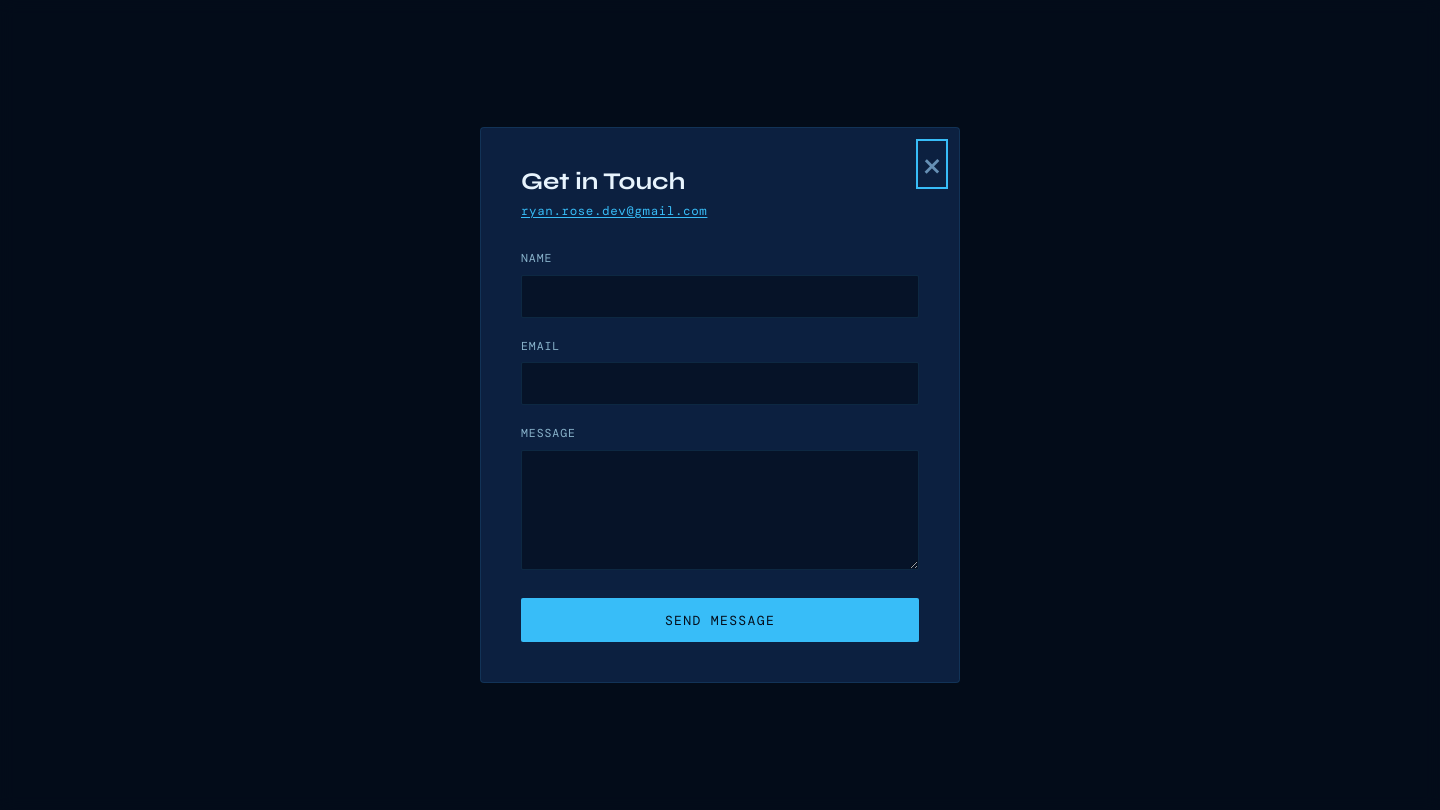
Test: ContactModal › shows a success message after a successful submission
In the field labelled "Name": (720, 296) [521,275,919,318], type "Jerome"
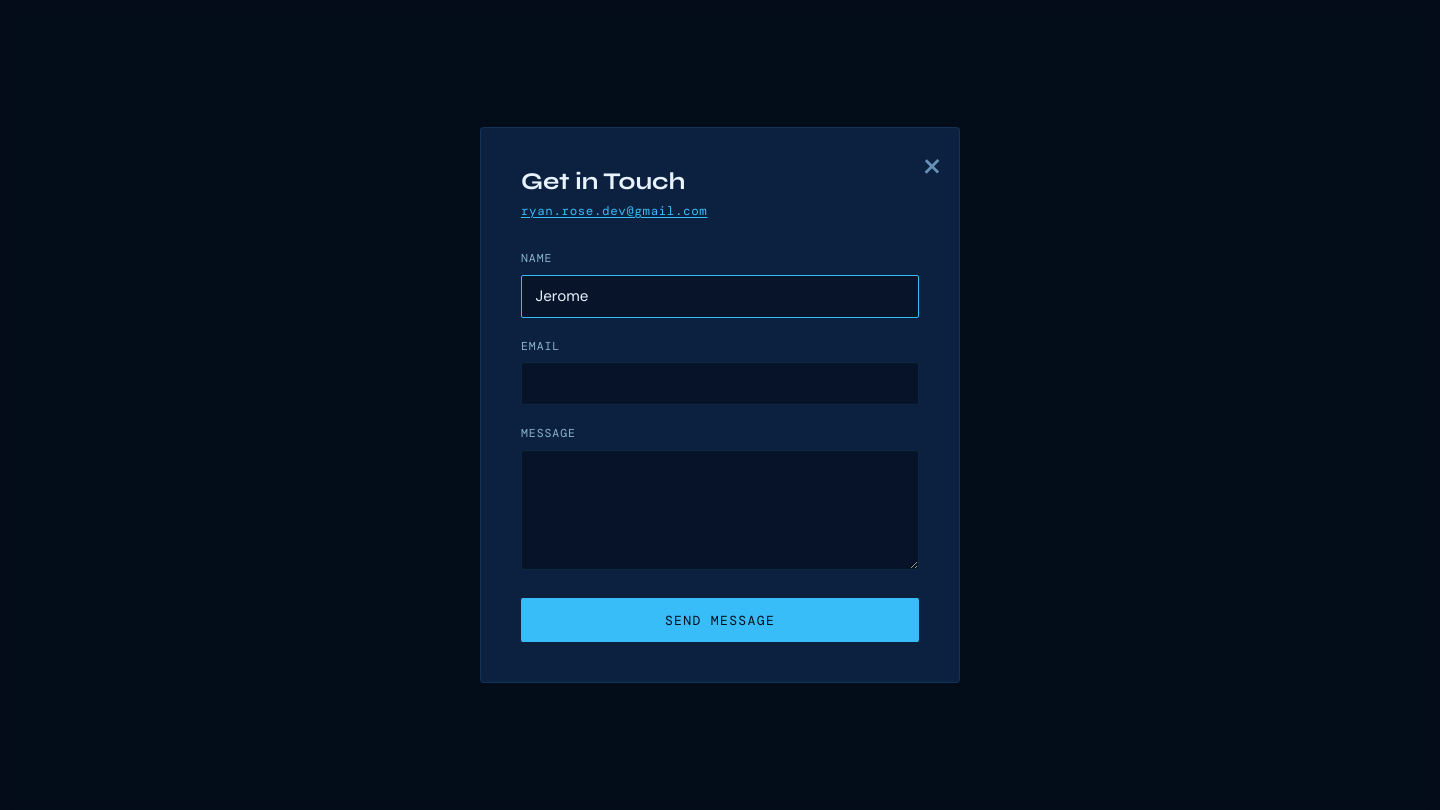
In the field labelled "Email": (720, 384) [521,362,919,405], type "jerome@example.com"
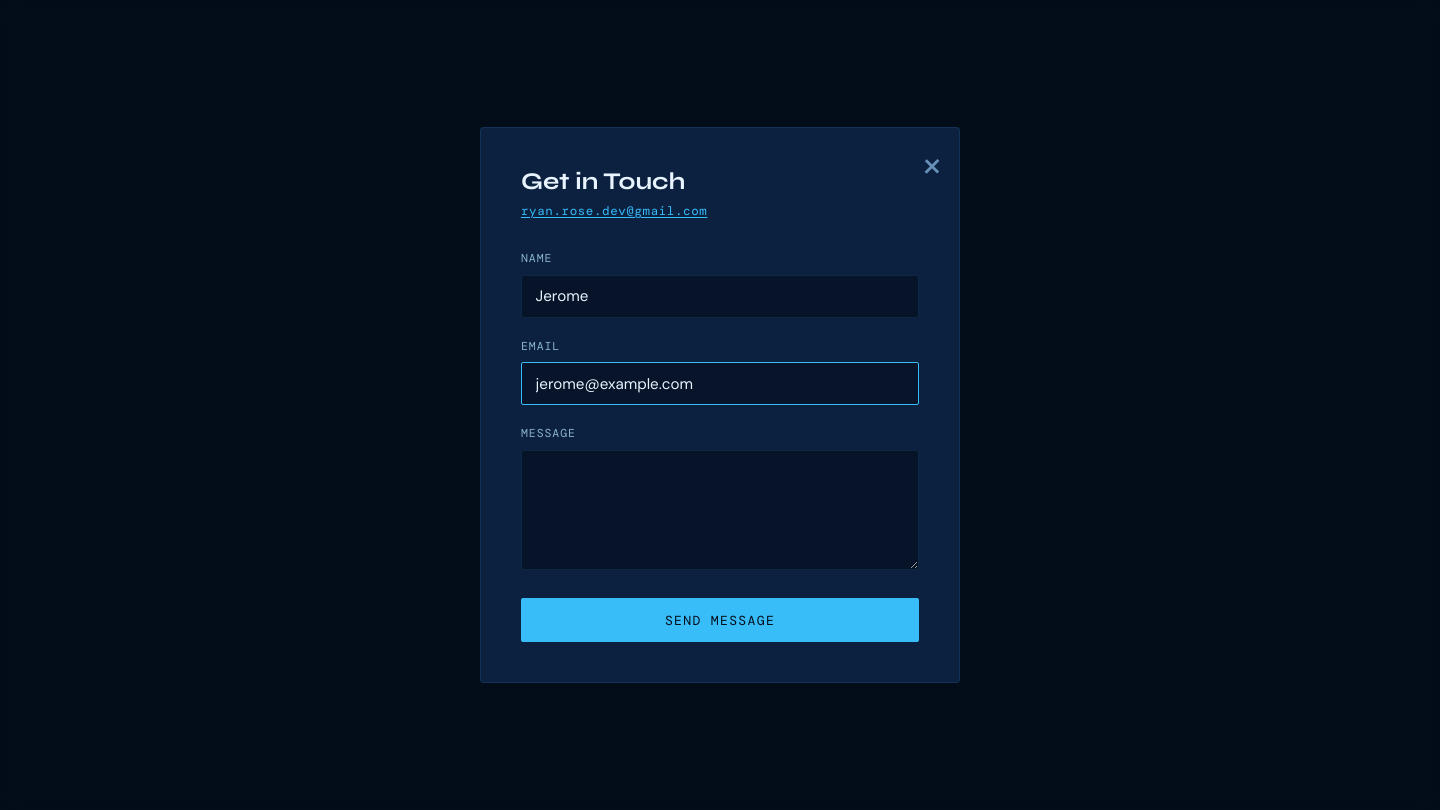
In the text box labelled "Message": (720, 510) [521,450,919,570], type "Hello there"
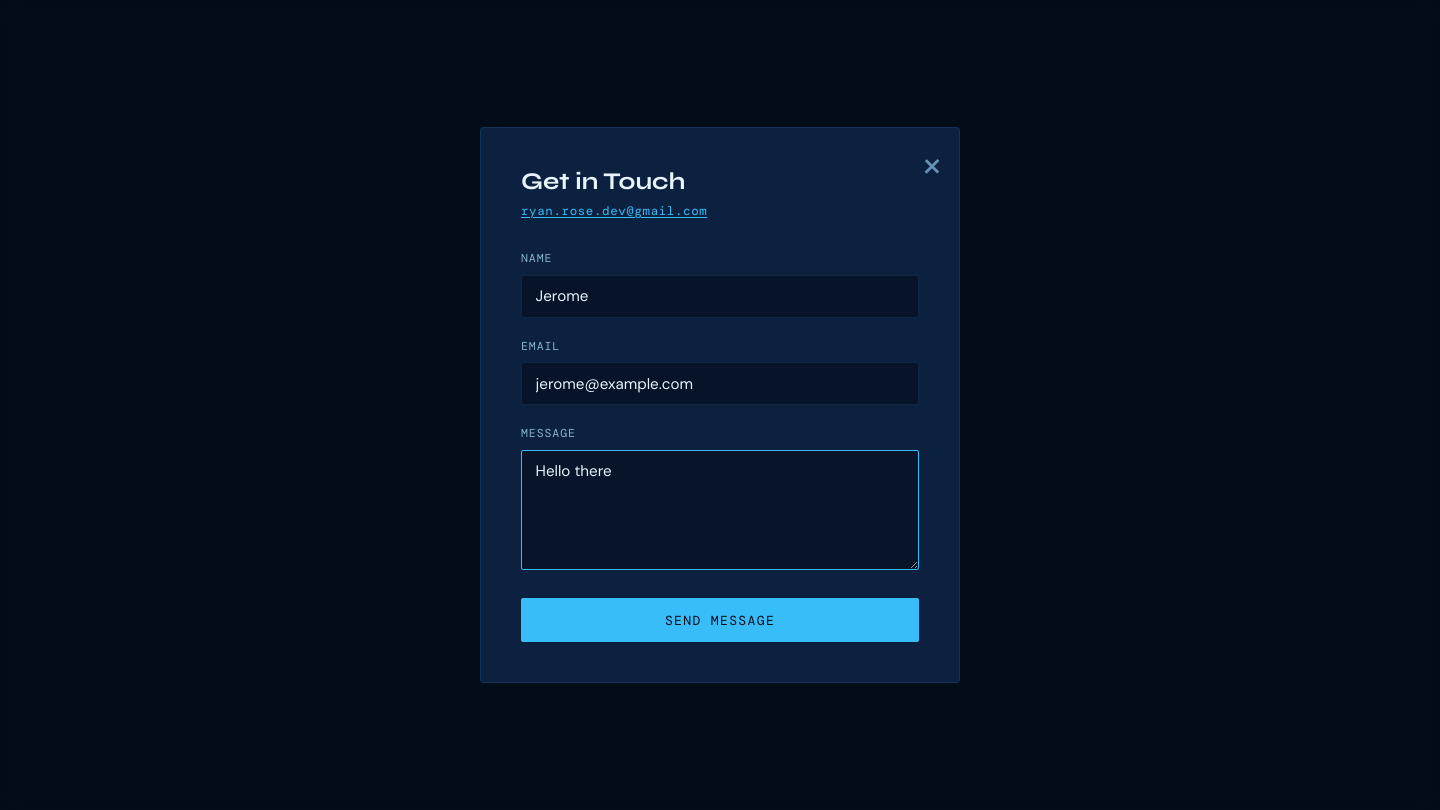
Click the button "Send Message": (720, 620) [521,598,919,642]
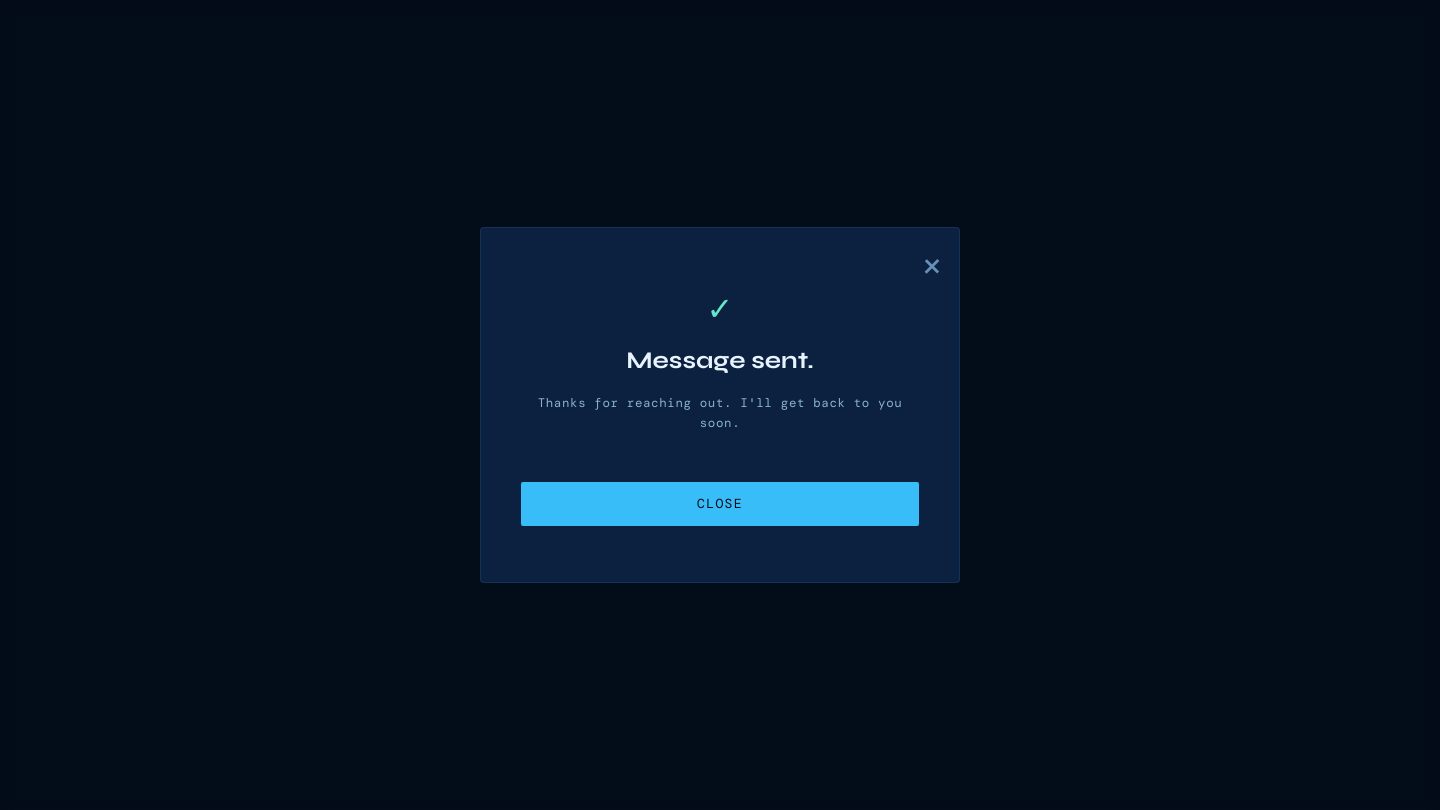
Now the heading "Message sent." is shown, box [626,347,814,376]
